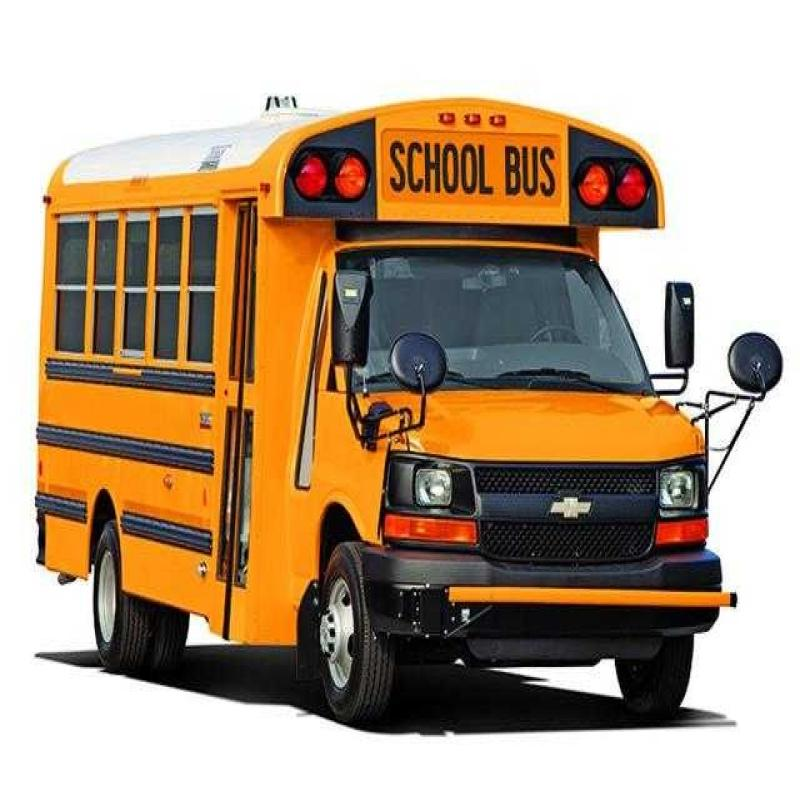bus: (23, 84, 784, 740)
